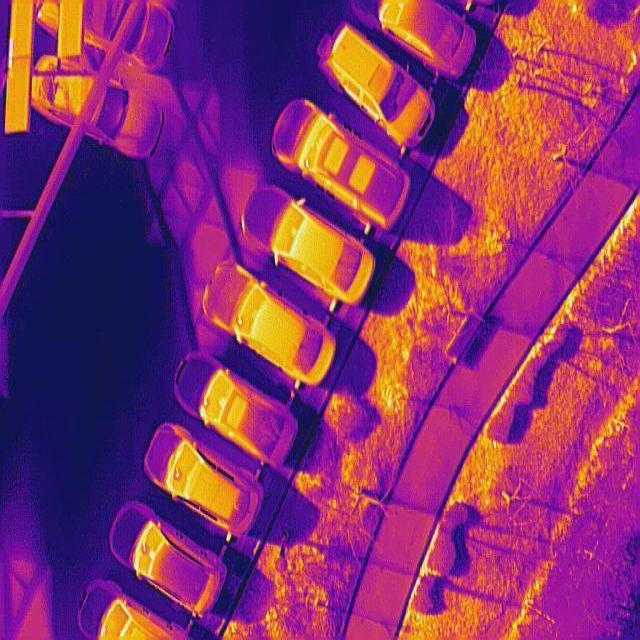Cell: (6, 55, 31, 131)
